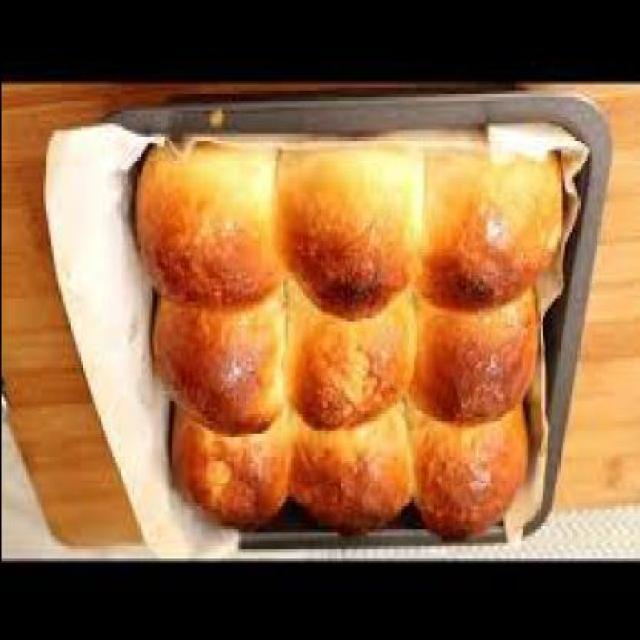BIODEGRADABLE: (126, 144, 280, 314), (416, 141, 558, 314), (275, 148, 413, 324), (148, 294, 284, 438), (406, 287, 536, 425), (282, 297, 408, 438), (410, 409, 524, 542), (287, 416, 407, 542), (165, 412, 284, 531)
